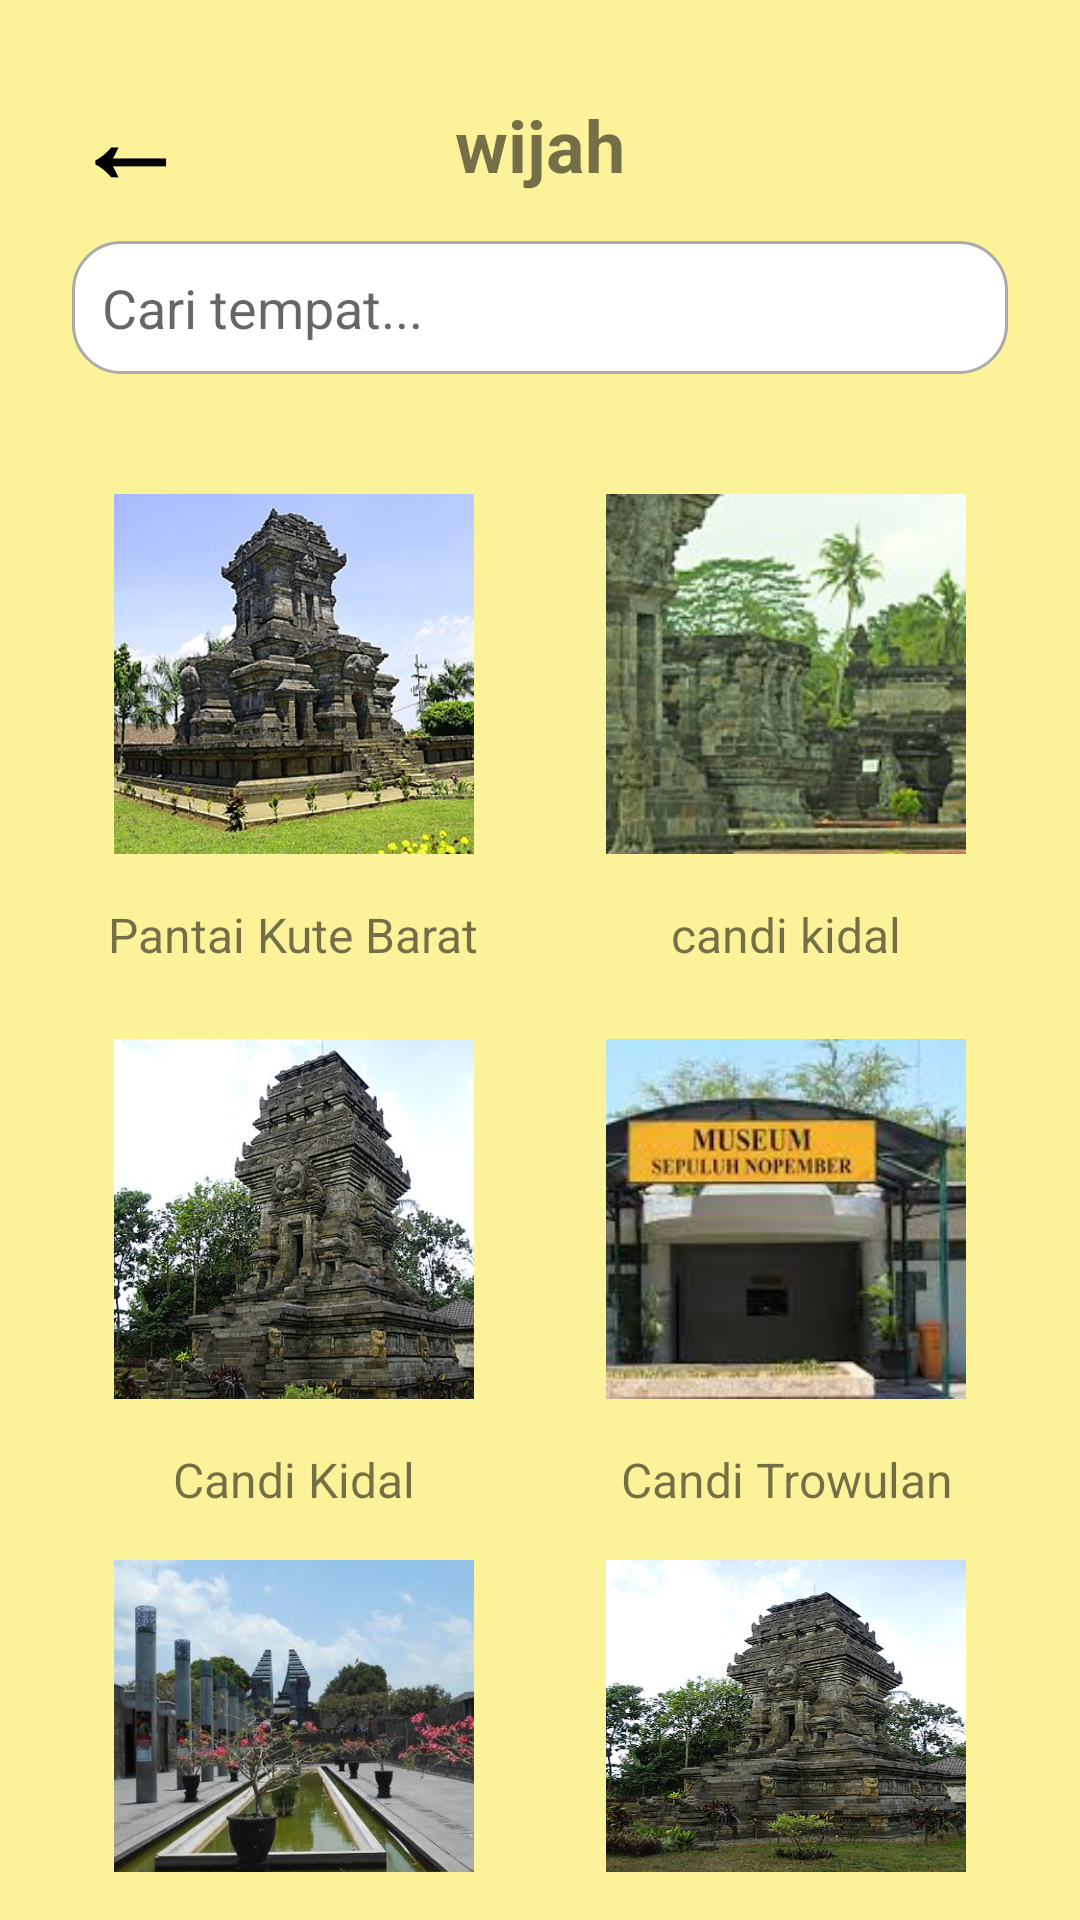

Icon bounding boxes for this 1080px x 1920px phone screenshot, format (x1, y1, x2, y2):
Photo 1: (114, 494, 474, 854)
Photo 2: (606, 494, 966, 854)
Photo 3: (114, 1039, 474, 1399)
Photo 4: (606, 1039, 966, 1399)
